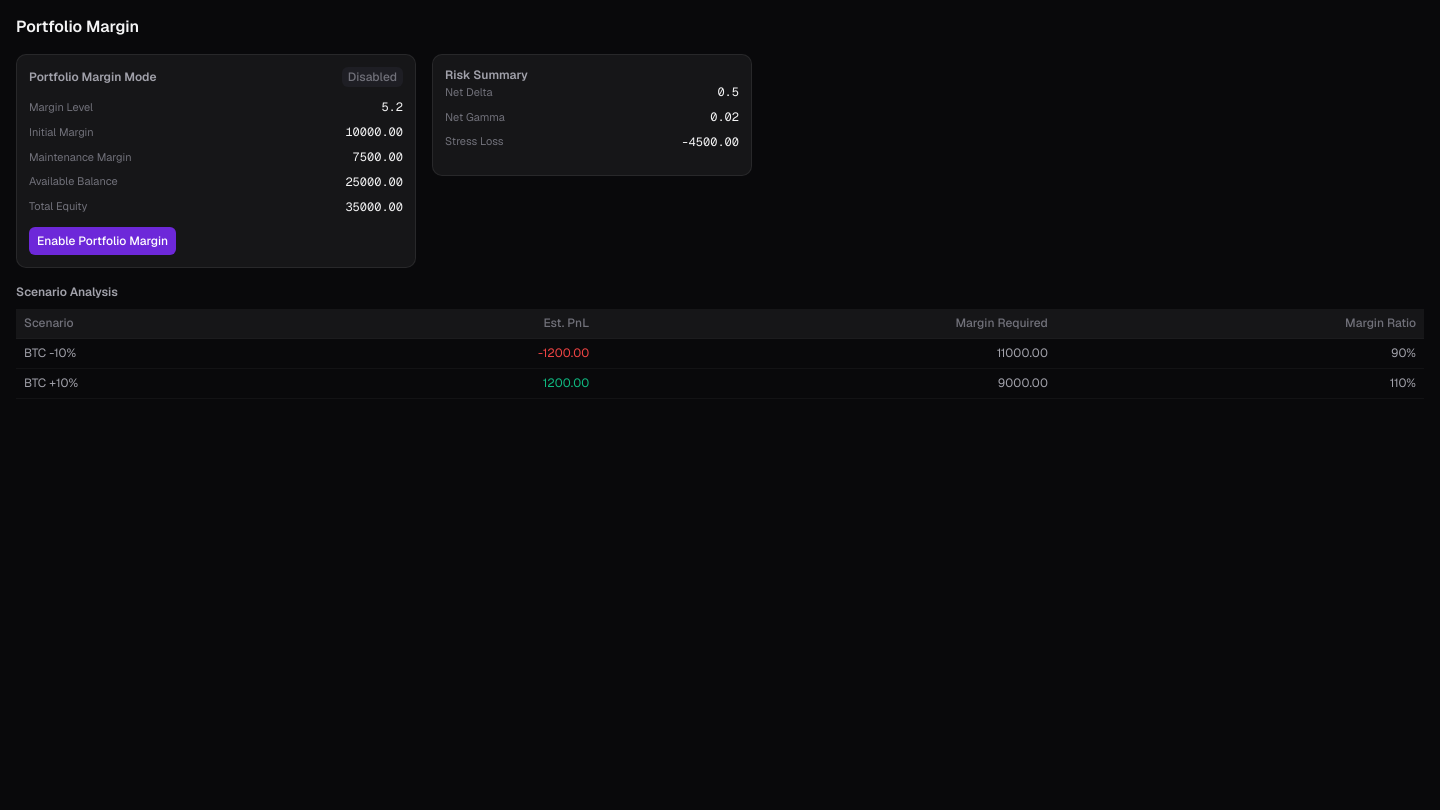
PortfolioMarginPage › enable button calls enablePortfolioMargin API after confirmation
The image size is (1440, 810).
Expected: the text "Disabled" is shown, [342,67,403,87]
Click the button "Enable Portfolio Margin" at (103, 241), box [29,227,176,255]
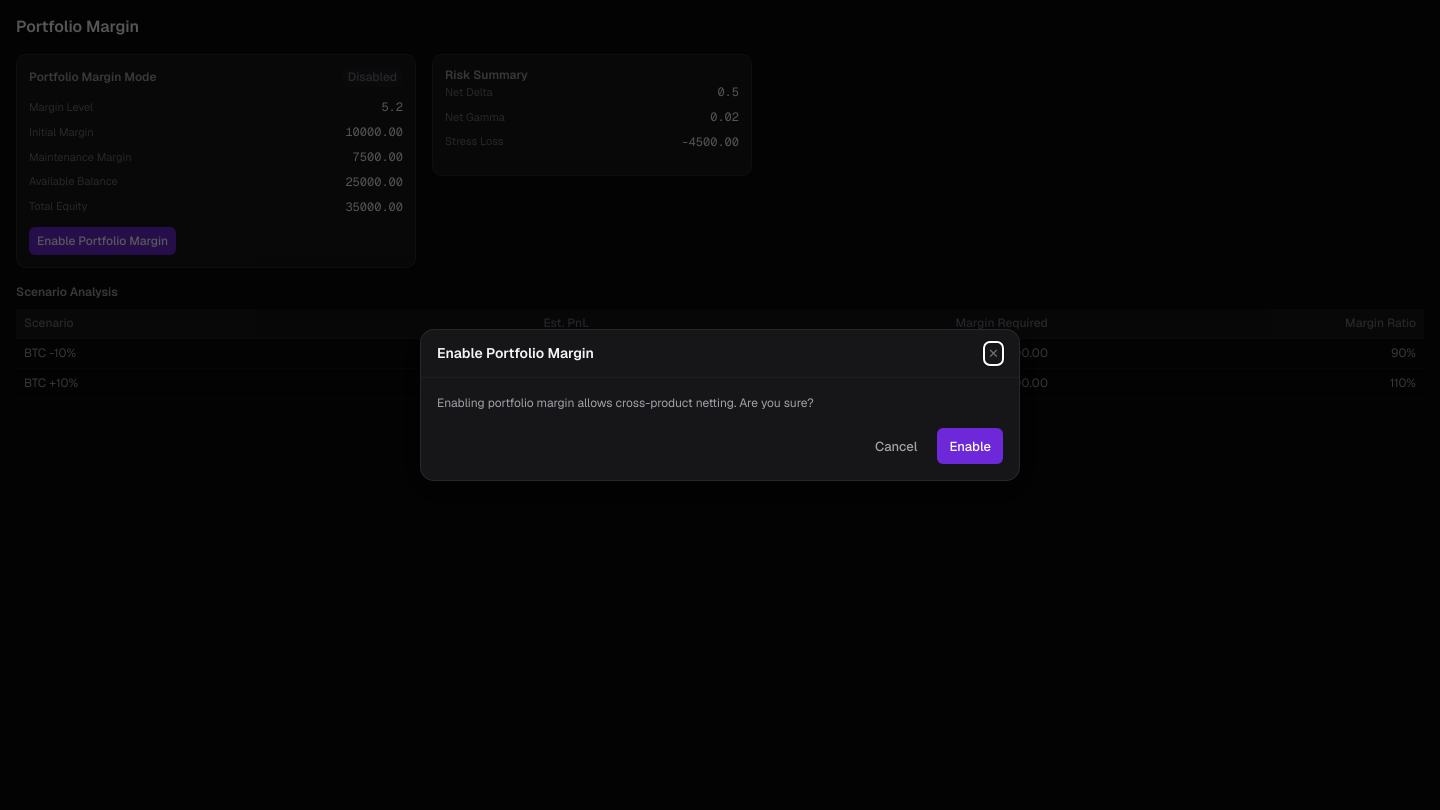
# ConfirmDialog appears
Click the button "Enable" at (970, 446), box [937,428,1003,464]
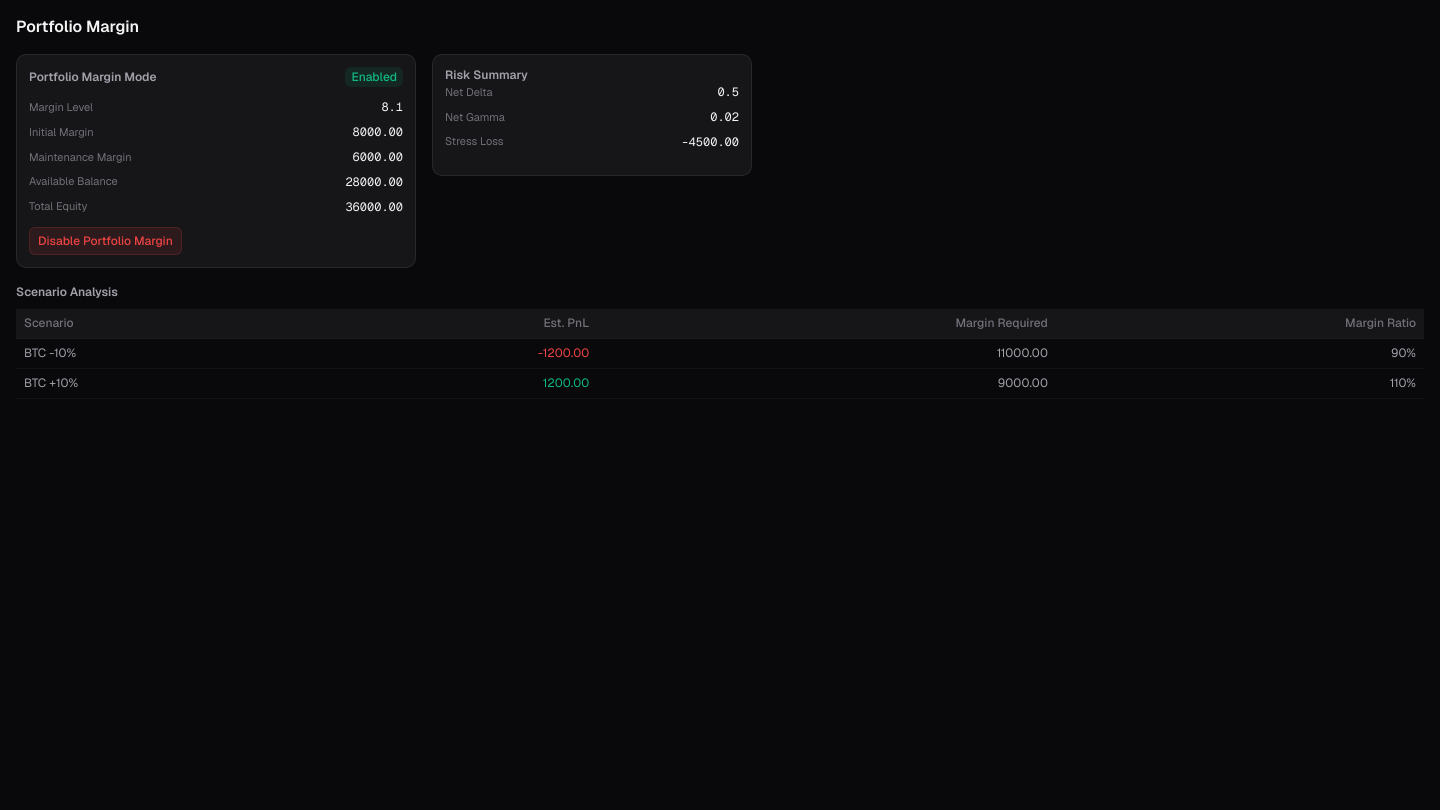
Now the text "Enabled" is shown, box [345,67,403,87]
